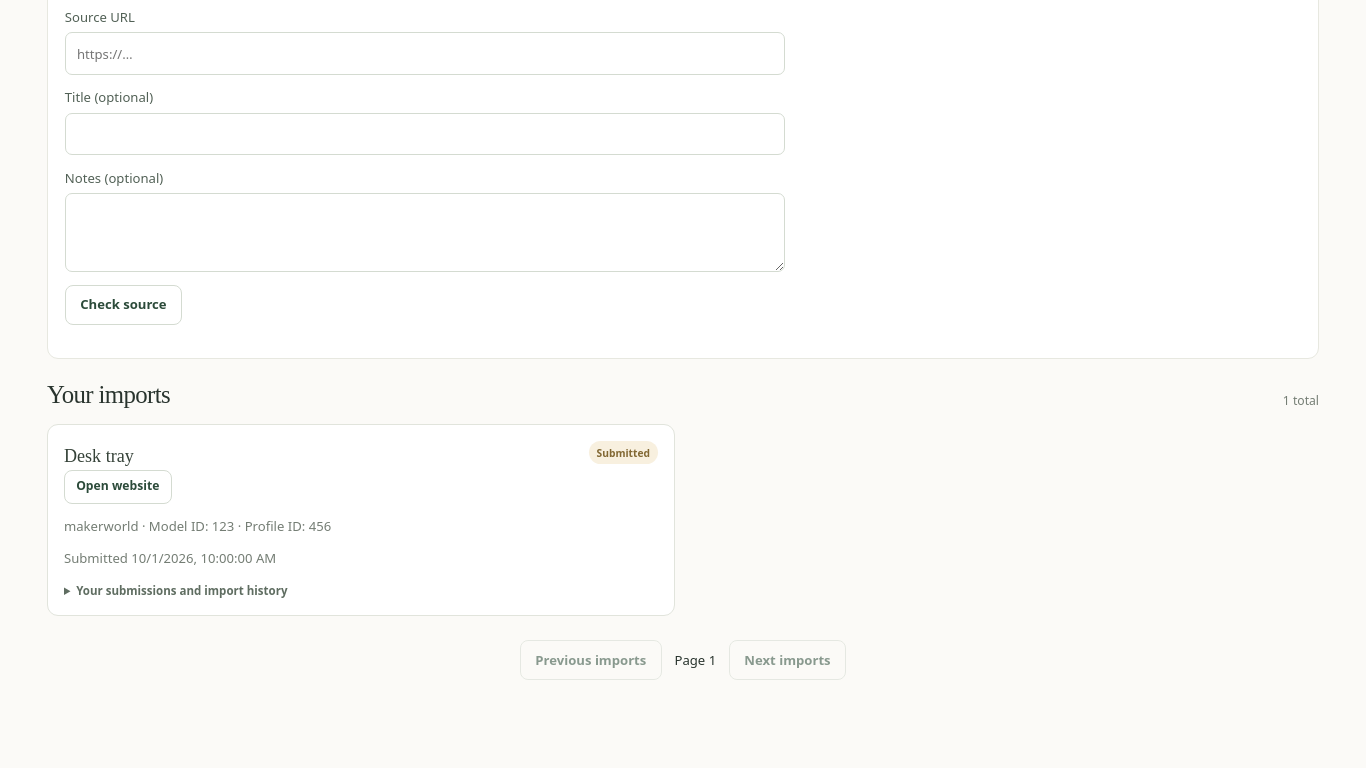
Scenario: shows requester submissions and source links but no operator controls
(page scrolled)
Click the heading "Your submissions and import history": {"x": 182, "y": 590} left=76, top=583, right=288, bottom=598
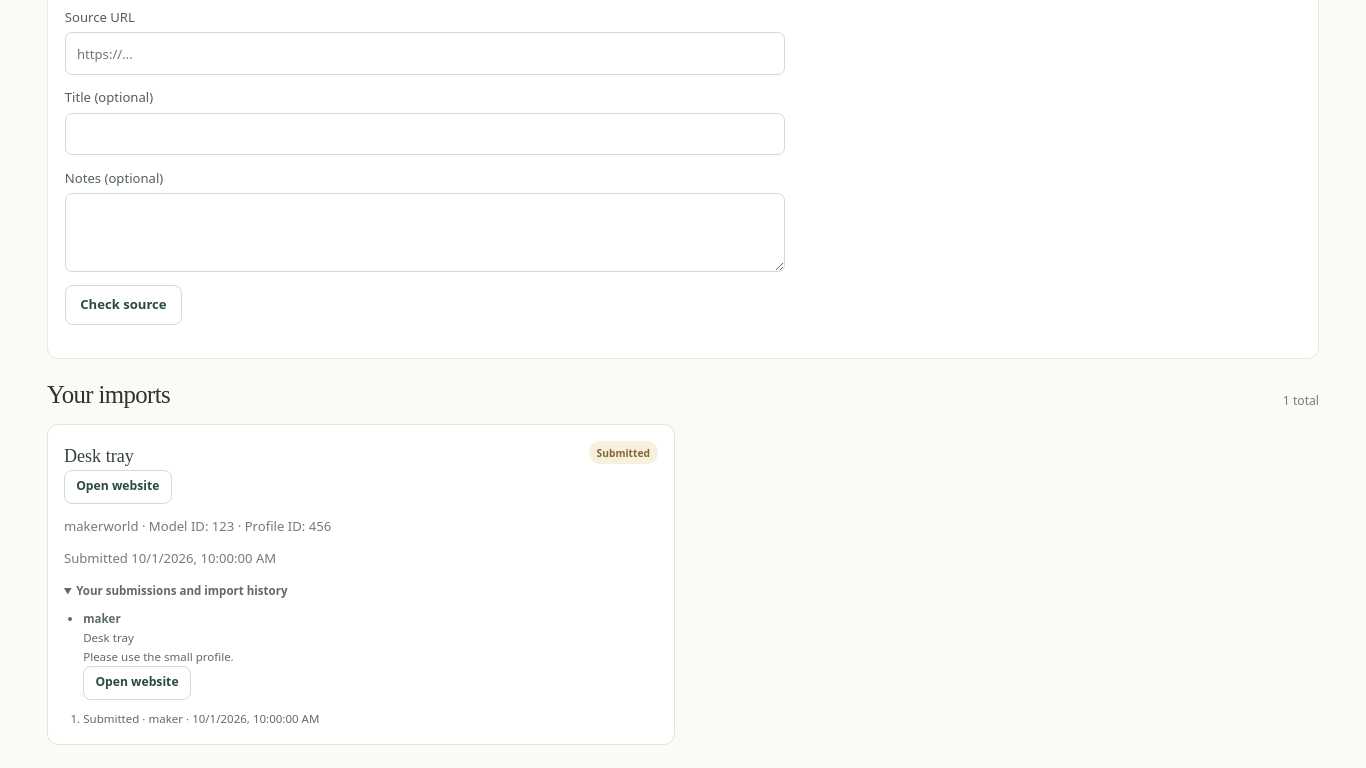
Result: the text "Please use the small profile." is shown at left=83, top=649, right=234, bottom=664
